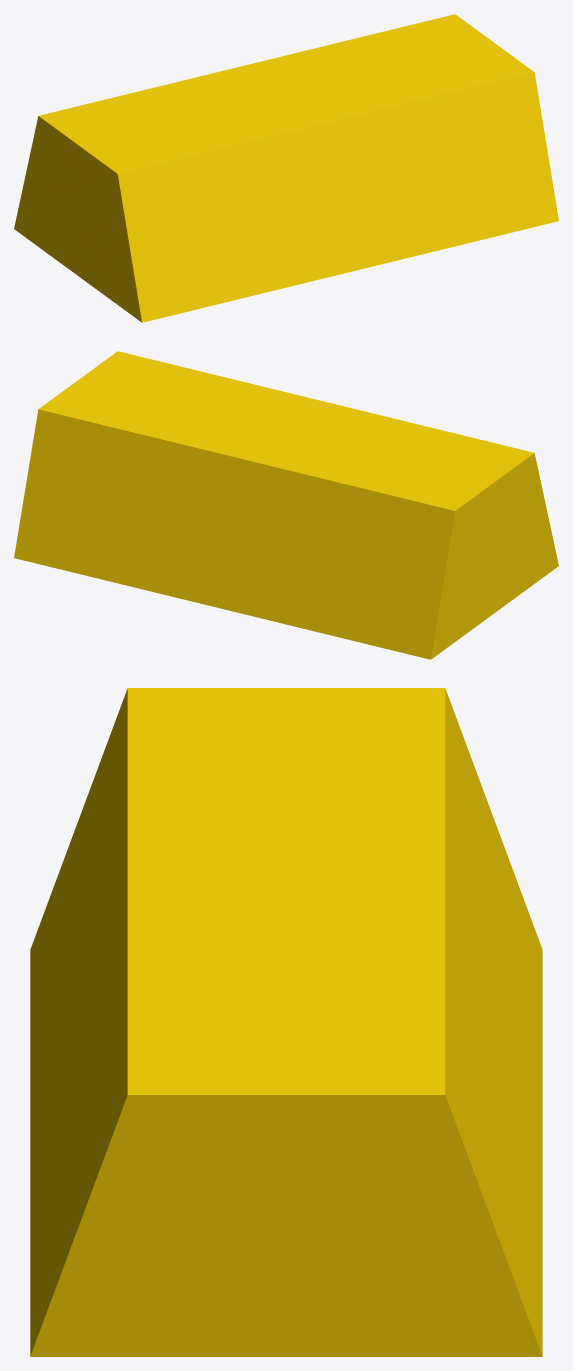
Rendered from Gold.fbx.
The picture shows the model from 3 angles, top to bottom: view 1: azimuth 30°, elevation 25°; view 2: azimuth 150°, elevation 25°; view 3: azimuth 270°, elevation 25°; orthographic projection. The views are drawn at different scales.
Parts seen in each view (by area): view 1: Cube; view 2: Cube; view 3: Cube.
Boxes of the visible parts, x1,y1,x2,y2 form: Cube: (14,14,558,322); Cube: (14,351,558,659); Cube: (30,688,542,1356).
Bounding box in the file's own units: 39.85 × 11.97 × 21.21.
